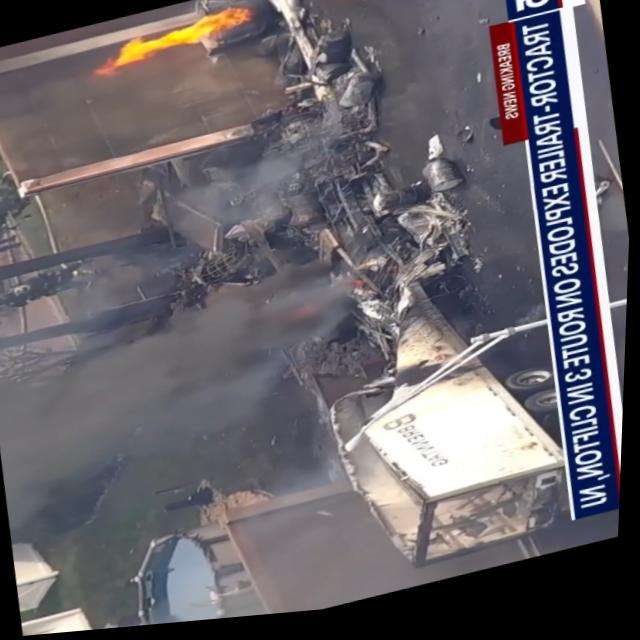Fire: (75, 4, 263, 87)
